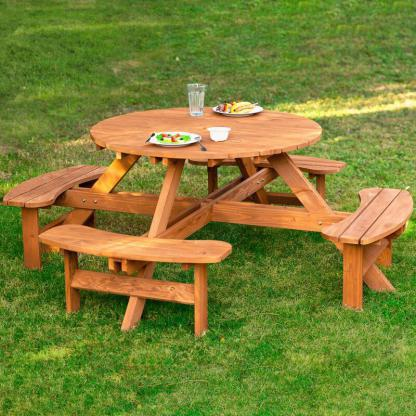table: (0, 99, 415, 340)
